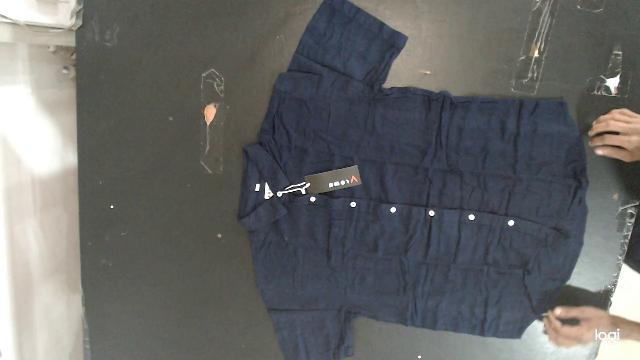new-garment: (238, 0, 588, 360)
